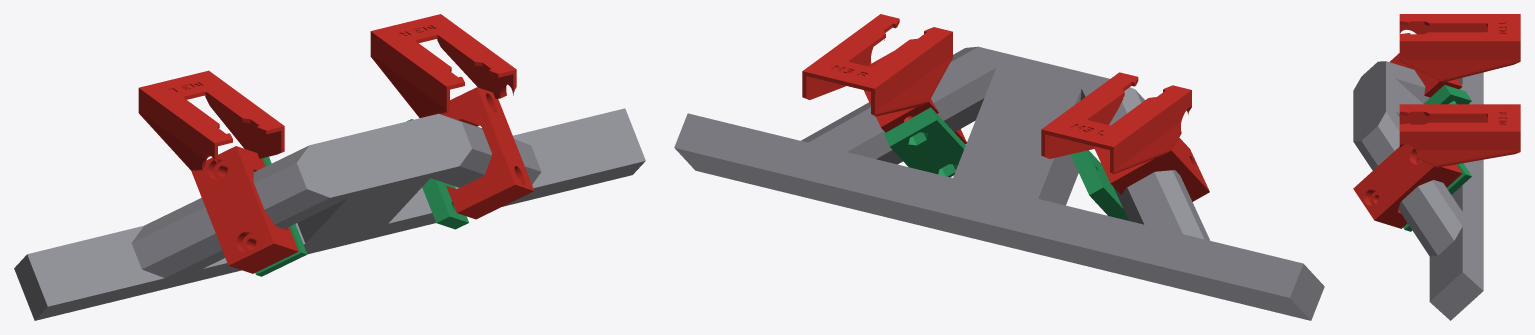
File: assembly_m3.obj
The picture shows the model from 3 angles, left to right: view 1: azimuth 30°, elevation 25°; view 2: azimuth 150°, elevation 25°; view 3: azimuth 270°, elevation 25°; orthographic projection. The views are drawn at different scales.
Visible parts, largest first — view 1: hanger_schematic, left_saddle, right_saddle, right_keeper, left_keeper; view 2: hanger_schematic, left_saddle, right_saddle, right_keeper, left_keeper; view 3: hanger_schematic, right_saddle, left_saddle, left_keeper, right_keeper.
Boxes of the visible parts, x1,y1,x2,y2 form: hanger_schematic: [14, 108, 645, 320]; left_saddle: [138, 70, 298, 273]; right_saddle: [370, 14, 534, 219]; right_keeper: [406, 119, 468, 229]; left_keeper: [255, 157, 307, 276]; hanger_schematic: [674, 46, 1324, 320]; left_saddle: [1041, 72, 1209, 201]; right_saddle: [802, 14, 966, 144]; right_keeper: [884, 107, 965, 177]; left_keeper: [1070, 150, 1128, 220]; hanger_schematic: [1353, 61, 1483, 320]; right_saddle: [1353, 104, 1520, 228]; left_saddle: [1389, 14, 1520, 97]; left_keeper: [1424, 85, 1471, 104]; right_keeper: [1403, 163, 1471, 231].
Bounding box in the file's own units: 260 × 68.52 × 79.08.
